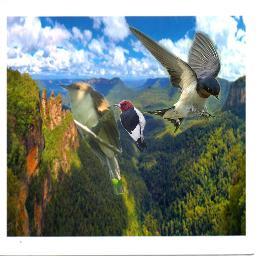Cuckoo: (54, 80, 127, 200)
Swallow: (118, 24, 221, 133)
Woodpecker: (113, 100, 147, 149)
